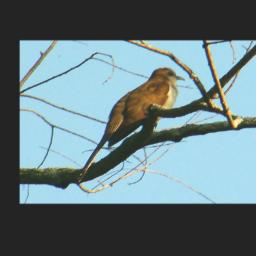Cuckoo: (104, 67, 185, 149)
